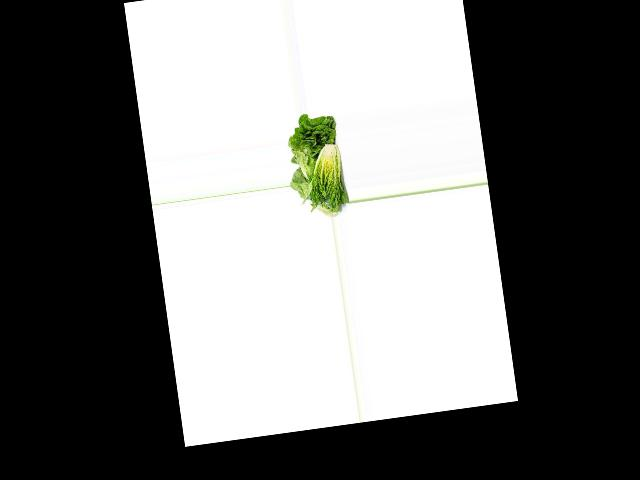lettuce: (284, 111, 346, 179)
